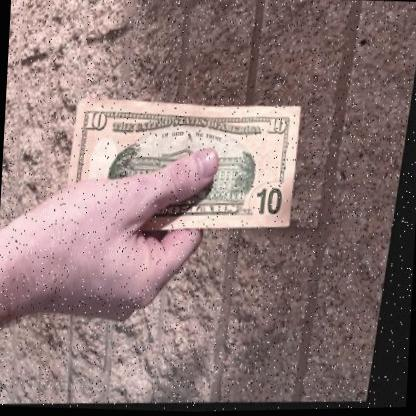dollar_back: (61, 87, 310, 246)
